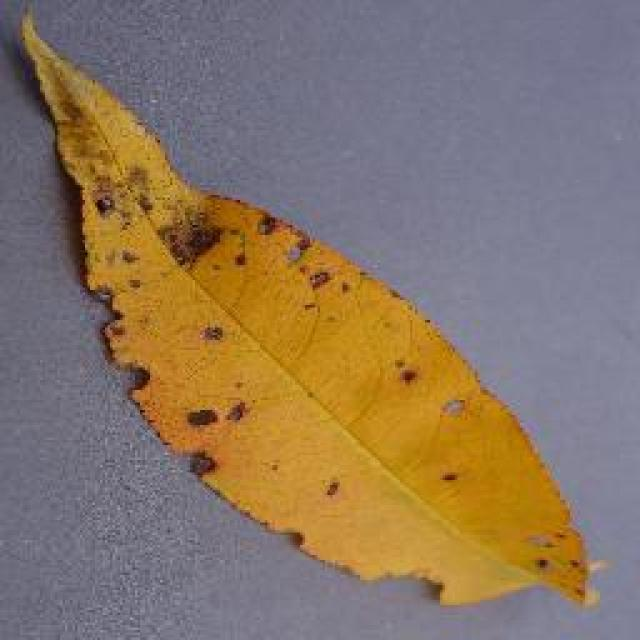Peach_Bacterial_Spot: (77, 172, 478, 560)
